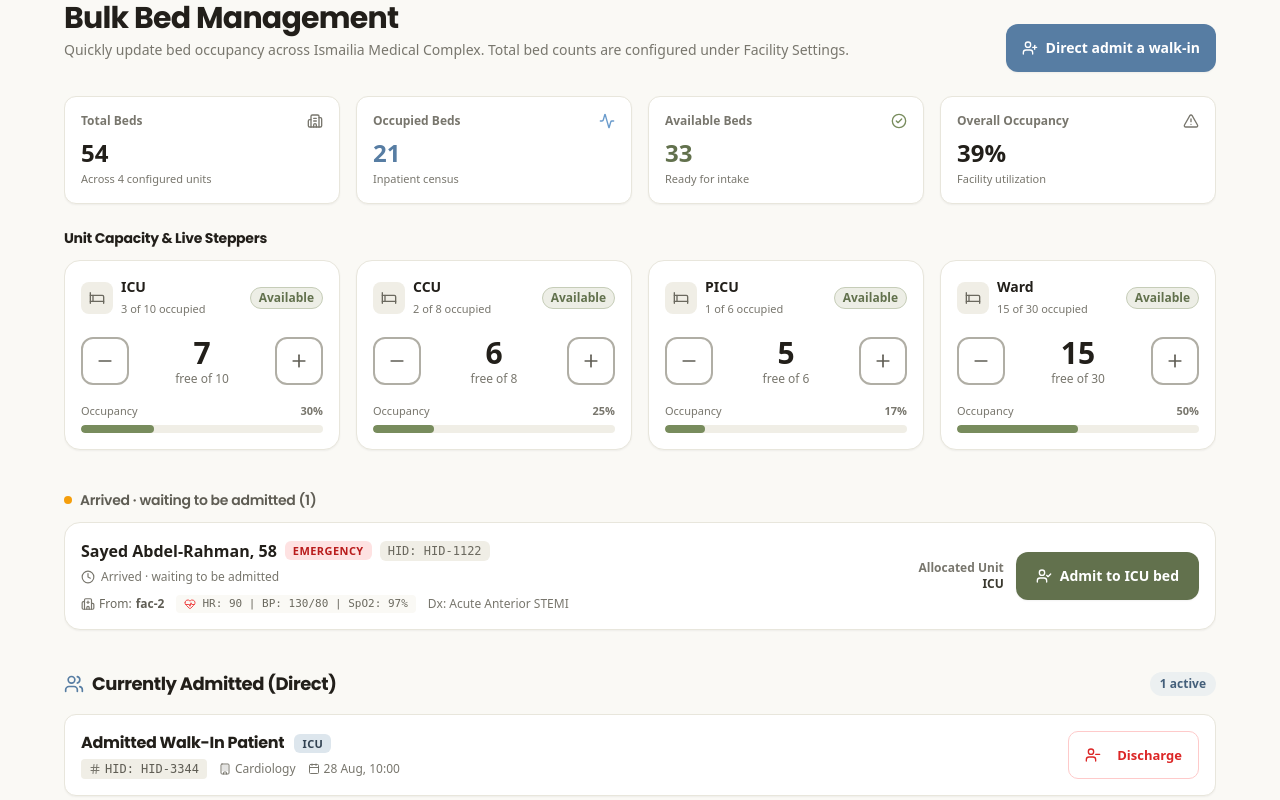
Test: BedManagementPage › opens Direct Admission modal when "Direct admit a walk-in" is clicked
The width and height of the screenshot is (1280, 800).
Click the button "Direct admit a walk-in".
click(1111, 48)  # box [1006,24,1216,72]
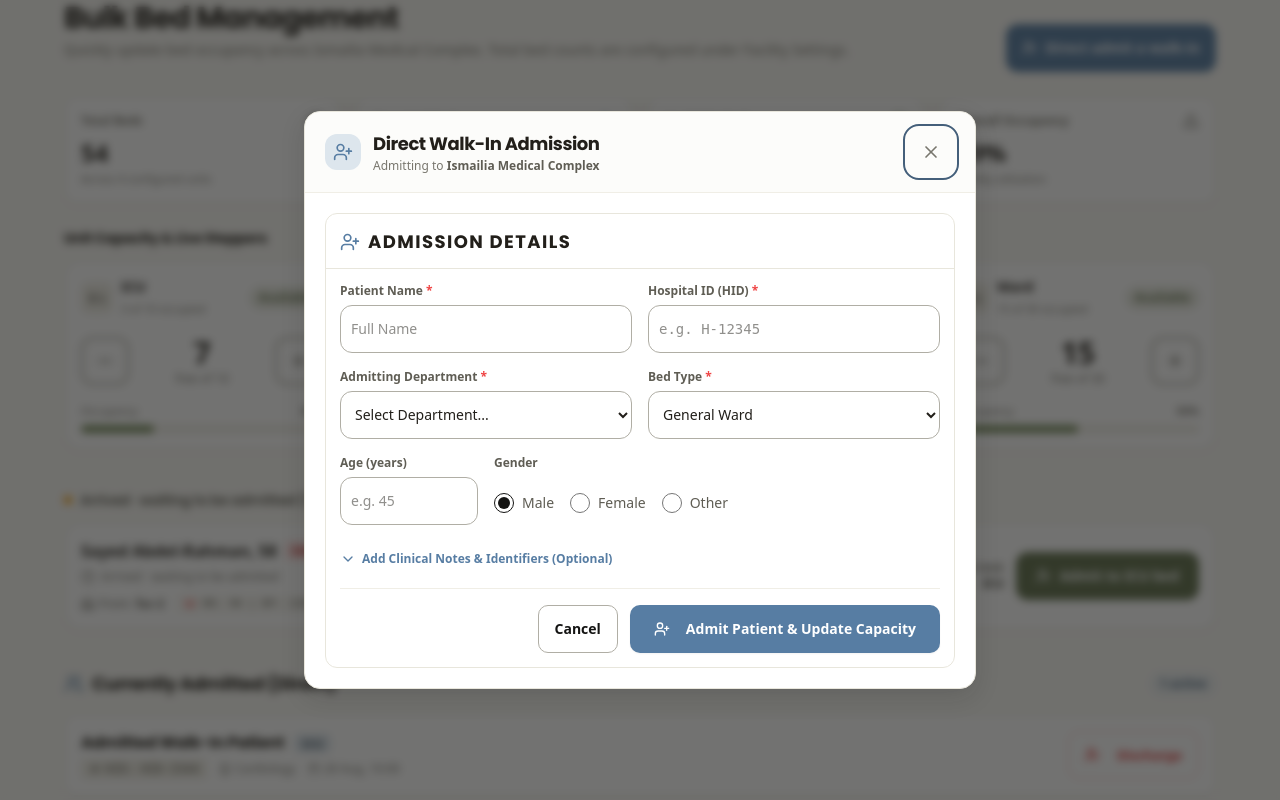
Result: the dialog is shown
Result: the heading "Direct Walk-In Admission" is shown at [373,130,600,158]
Result: the field labelled "Patient Name *" is shown at [340,305,632,353]
